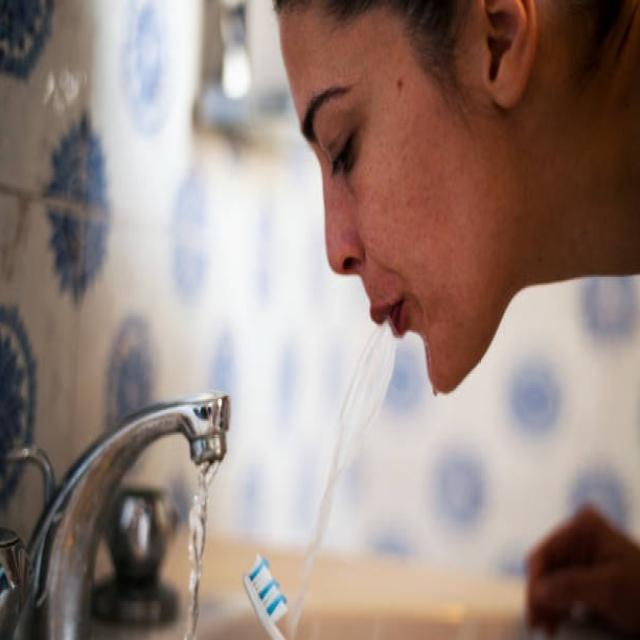Spitting: (229, 0, 640, 499)
